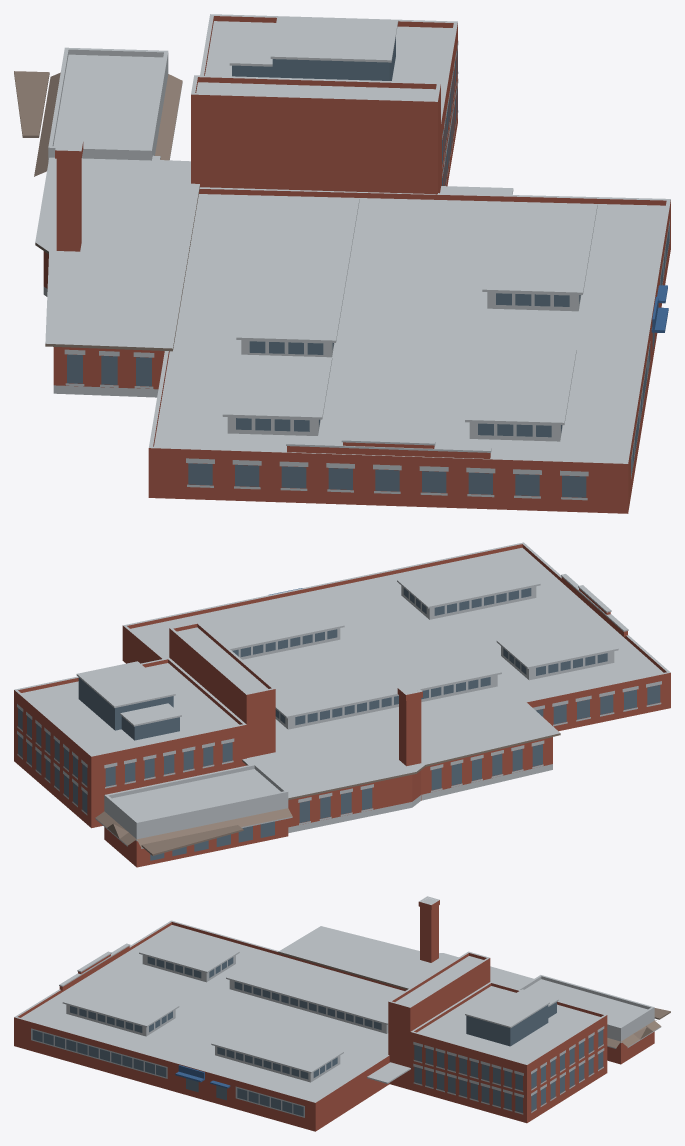
3 renders of one model, top to bottom at view 1: azimuth 30°, elevation 25°; view 2: azimuth 150°, elevation 25°; view 3: azimuth 270°, elevation 25°, orthographic. The views are drawn at different scales.
Parts seen in each view (by area): view 1: atherton-mill; view 2: atherton-mill; view 3: atherton-mill.
Boxes of the visible parts, x1,y1,x2,y2 form: atherton-mill: (14,14,670,513); atherton-mill: (14,542,670,867); atherton-mill: (14,896,670,1131).
Bounding box in the file's own units: 73.33 × 16.7 × 112.
